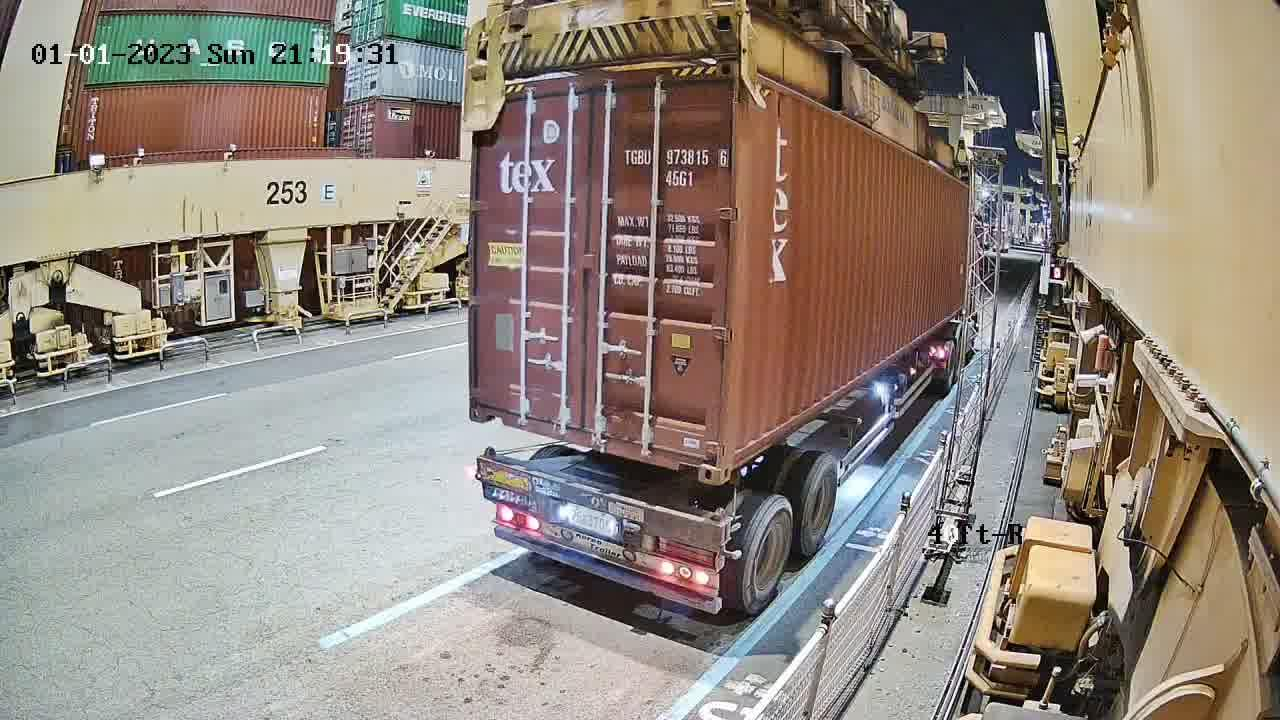Chassis: (479, 457, 723, 549)
Cone: (708, 505, 730, 547), (479, 446, 497, 484)
Hole_L: (718, 423, 753, 489), (470, 384, 503, 426)
Hole_R: (671, 428, 721, 488)
Tire: (740, 499, 794, 614), (801, 453, 839, 556)
